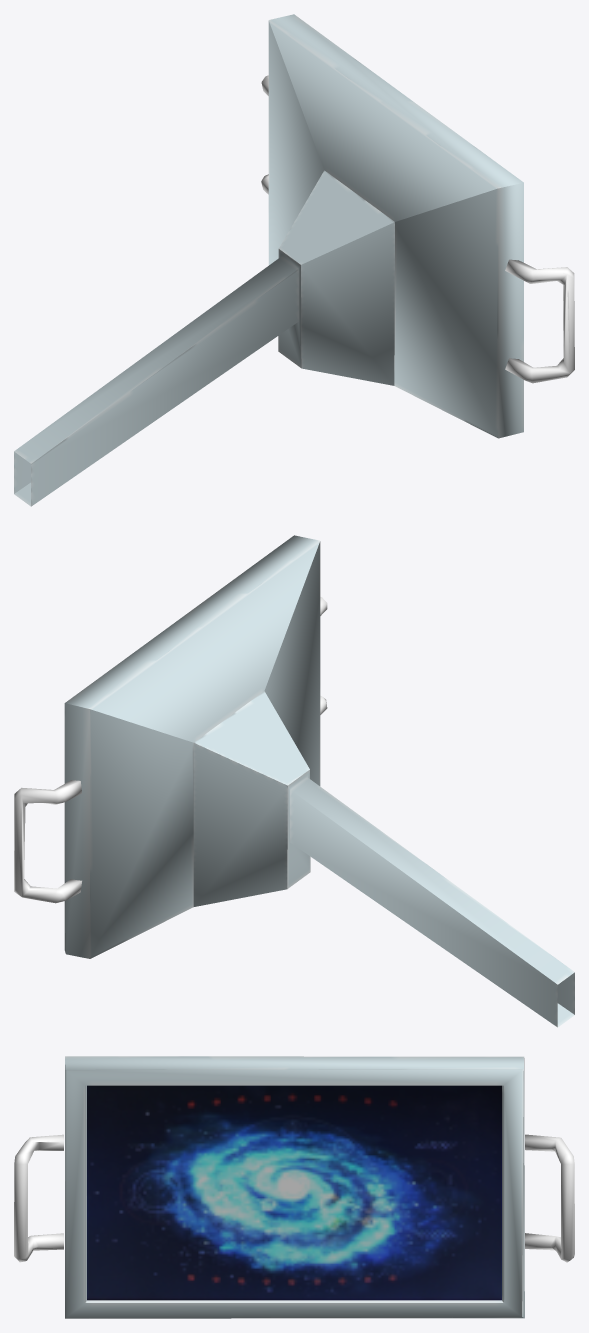
The model's file is screen_1.obj.
3 renders of one model, top to bottom at view 1: azimuth 30°, elevation 25°; view 2: azimuth 150°, elevation 25°; view 3: azimuth 270°, elevation 25°, orthographic.
Parts seen in each view (by area): view 1: 8.Screen_1; view 2: 8.Screen_1; view 3: 8.Screen_1.
Part boxes in pixels (x1=…): 8.Screen_1: x1=14, y1=14, x2=574, y2=506; 8.Screen_1: x1=14, y1=535, x2=574, y2=1027; 8.Screen_1: x1=14, y1=1056, x2=574, y2=1318.
Bounding box in the file's own units: 0.5287 × 0.3754 × 0.6202.
Materials: 1 (1 with a texture image).
